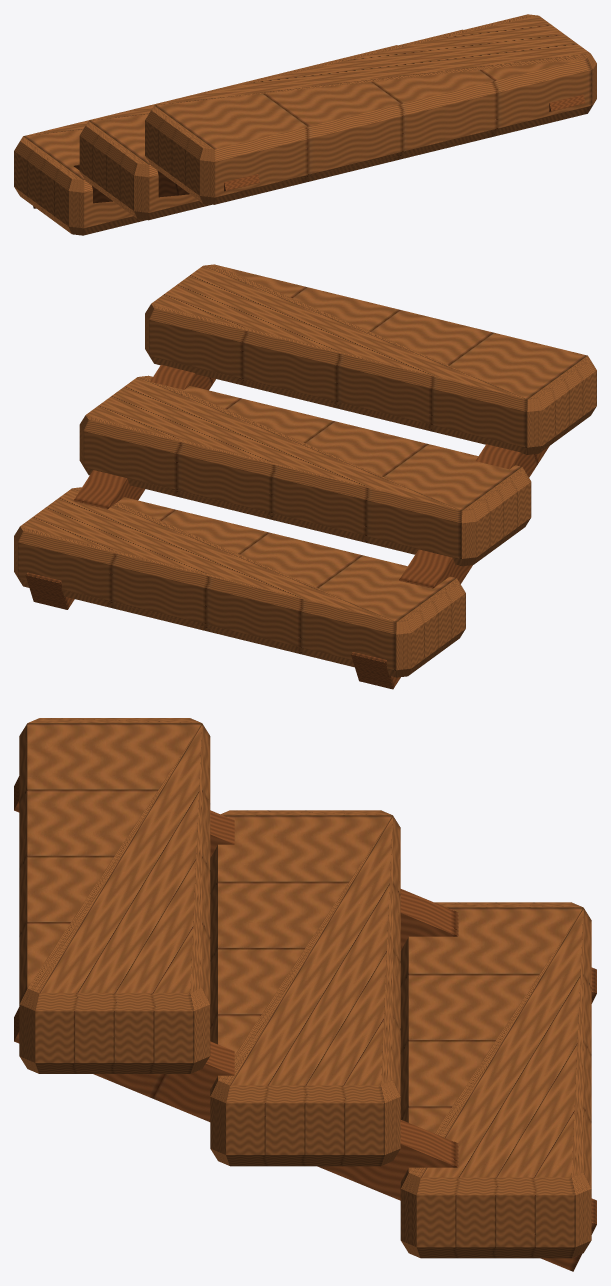
File: ocean-raft-settlement-ocean-raft-settlement-deck-stair-812b6fab__28905.glb
3 views of the same model, one above another, from view 1: azimuth 30°, elevation 25°; view 2: azimuth 150°, elevation 25°; view 3: azimuth 270°, elevation 25° (orthographic). The views are drawn at different scales.
Visible parts, largest first — view 1: pale, wood; view 2: pale, wood; view 3: pale, wood.
Boxes of the visible parts, x1,y1,x2,y2 form: pale: (14,14,596,235); wood: (33,94,585,208); pale: (14,264,596,677); wood: (25,365,549,689); pale: (19,718,591,1258); wood: (14,776,596,1271).
Bounding box in the file's own units: 1.05 × 0.5009 × 0.9173.
Materials: 2 (2 with a texture image).
